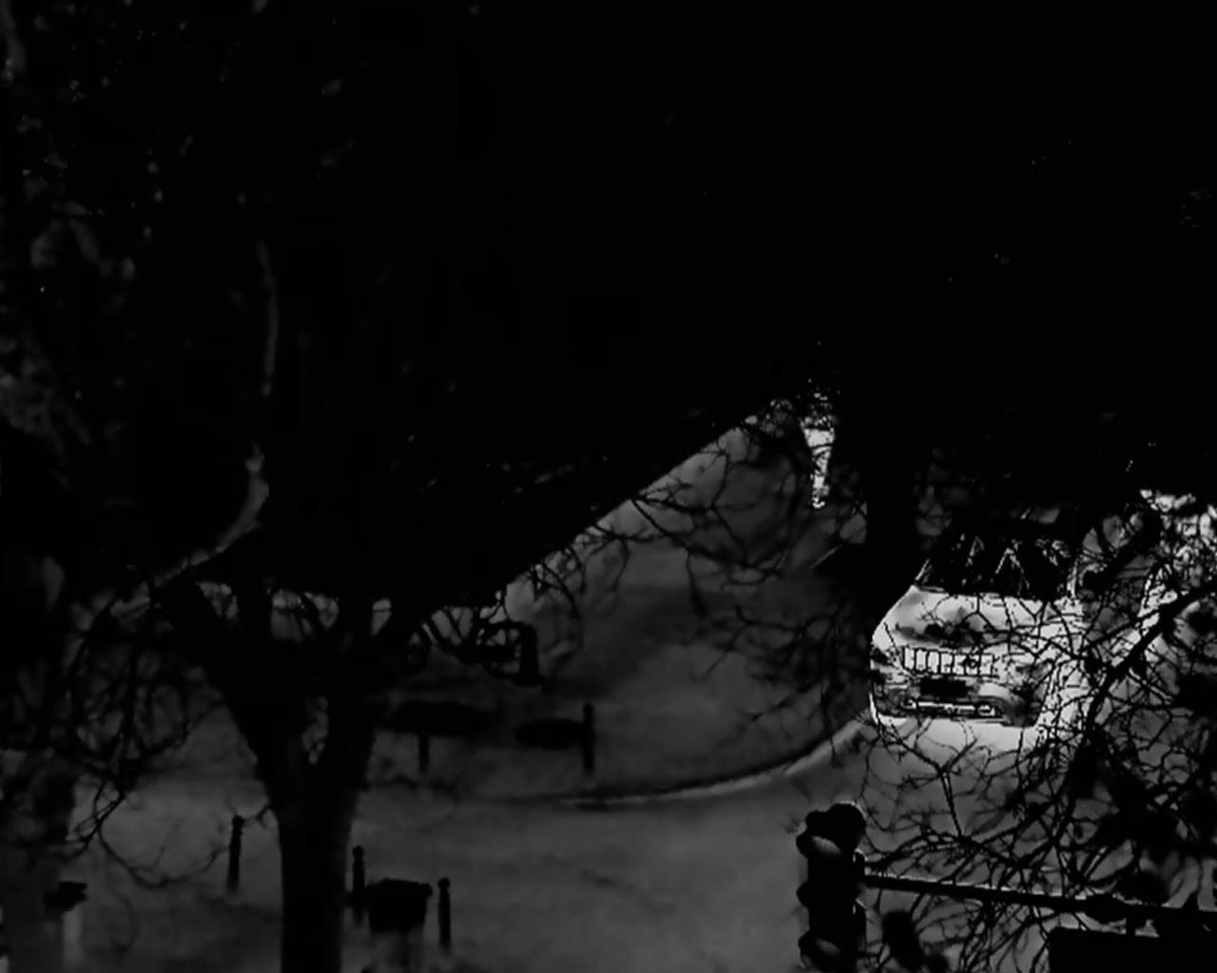person: (801, 411, 836, 510)
